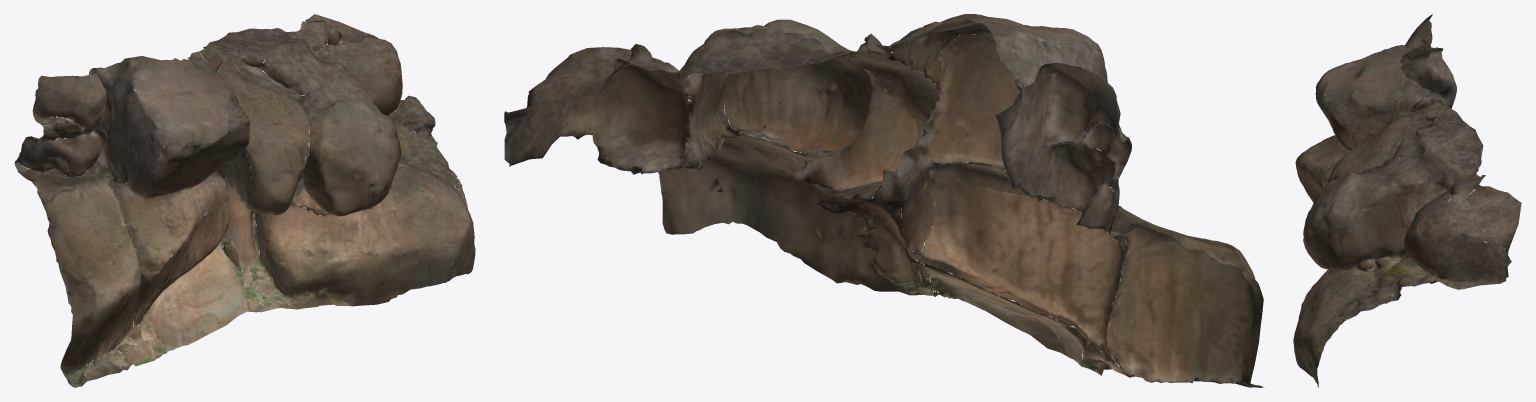
Rendered from namaqualand_cliff_01.glb.
3 renders of one model, left to right at view 1: azimuth 30°, elevation 25°; view 2: azimuth 150°, elevation 25°; view 3: azimuth 270°, elevation 25°, orthographic. The views are drawn at different scales.
Visible parts, largest first — view 1: drone_rock_01; view 2: drone_rock_01; view 3: drone_rock_01.
Part boxes in pixels (x1=…): drone_rock_01: x1=14, y1=14, x2=475, y2=387; drone_rock_01: x1=504, y1=14, x2=1264, y2=387; drone_rock_01: x1=1293, y1=14, x2=1521, y2=387.
Size of the model in its own units: 8.28 by 4.96 by 4.39.
Materials: 1 (1 with a texture image).
